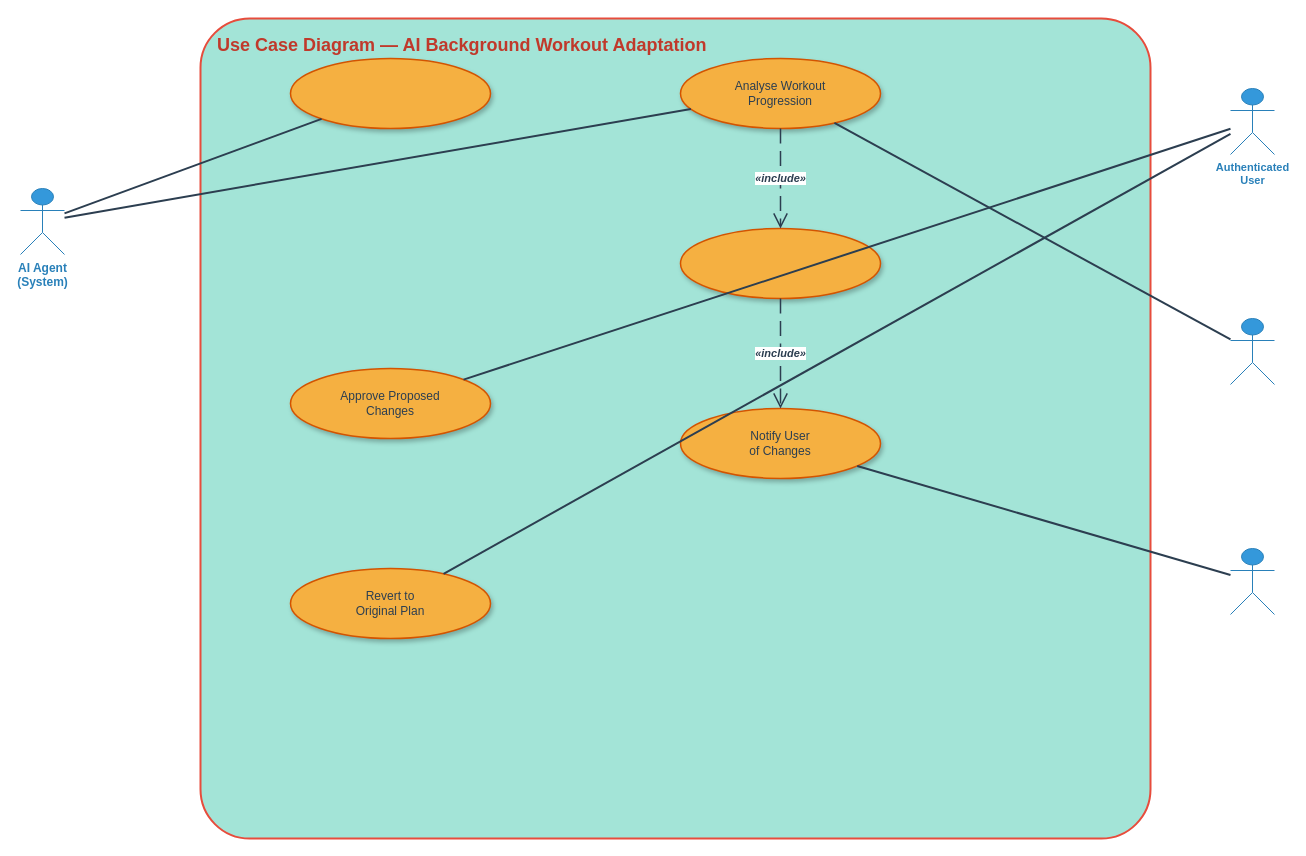
The diagram is 1306 pixels wide and 856 high, and some of its shapes have lost their labels. The centre of each missing label's shape, as x and y in pixels:
Generate Plan Modifications: point (781, 264)
Notification Service: point (1252, 581)
Schedule Adaptation Job: point (391, 94)
Supabase Backend: point (1252, 351)
